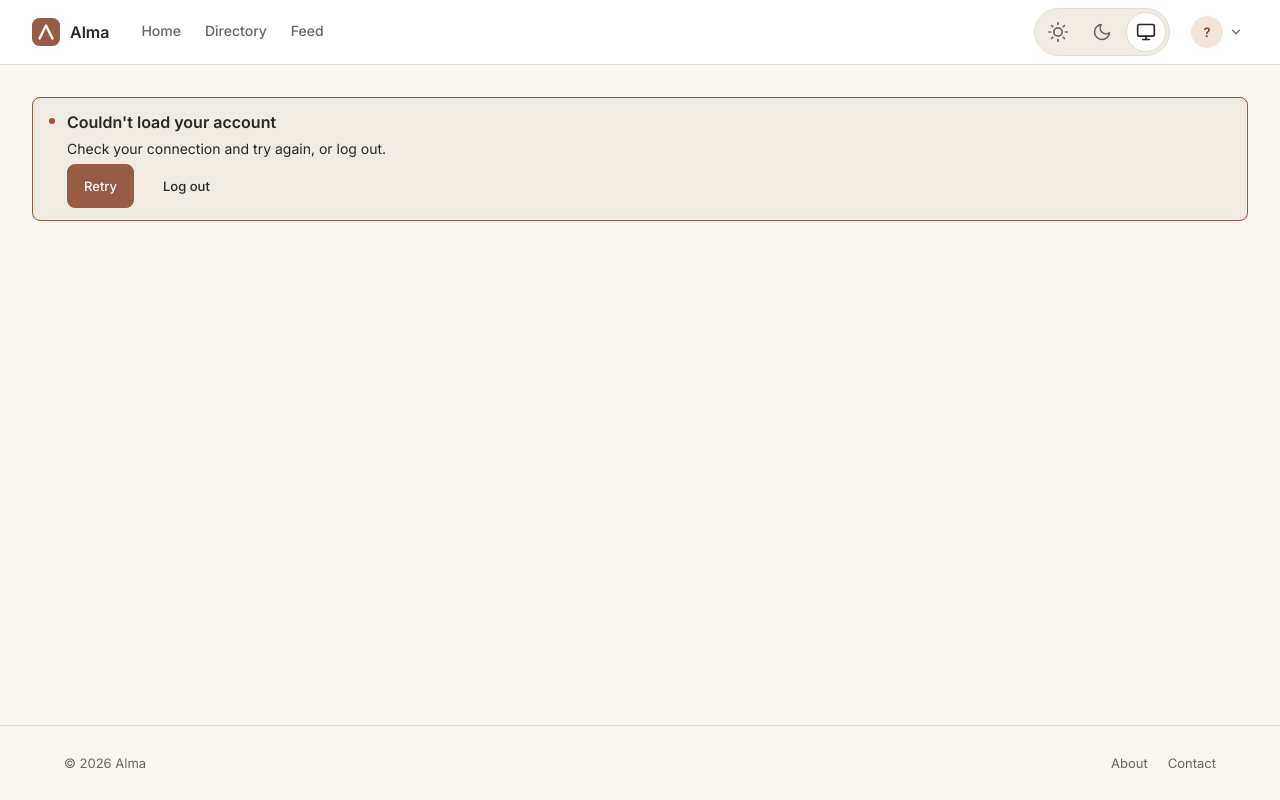
Test: /me through the real route (RequireAuth) › shows the guard's error with Retry when GET /me fails, and Retry loads the form
Expected: the text "Couldn't load your account" is shown, [67, 112, 276, 132]
Step 1. Click the button "Retry" → (100, 186), box [67, 164, 134, 208]
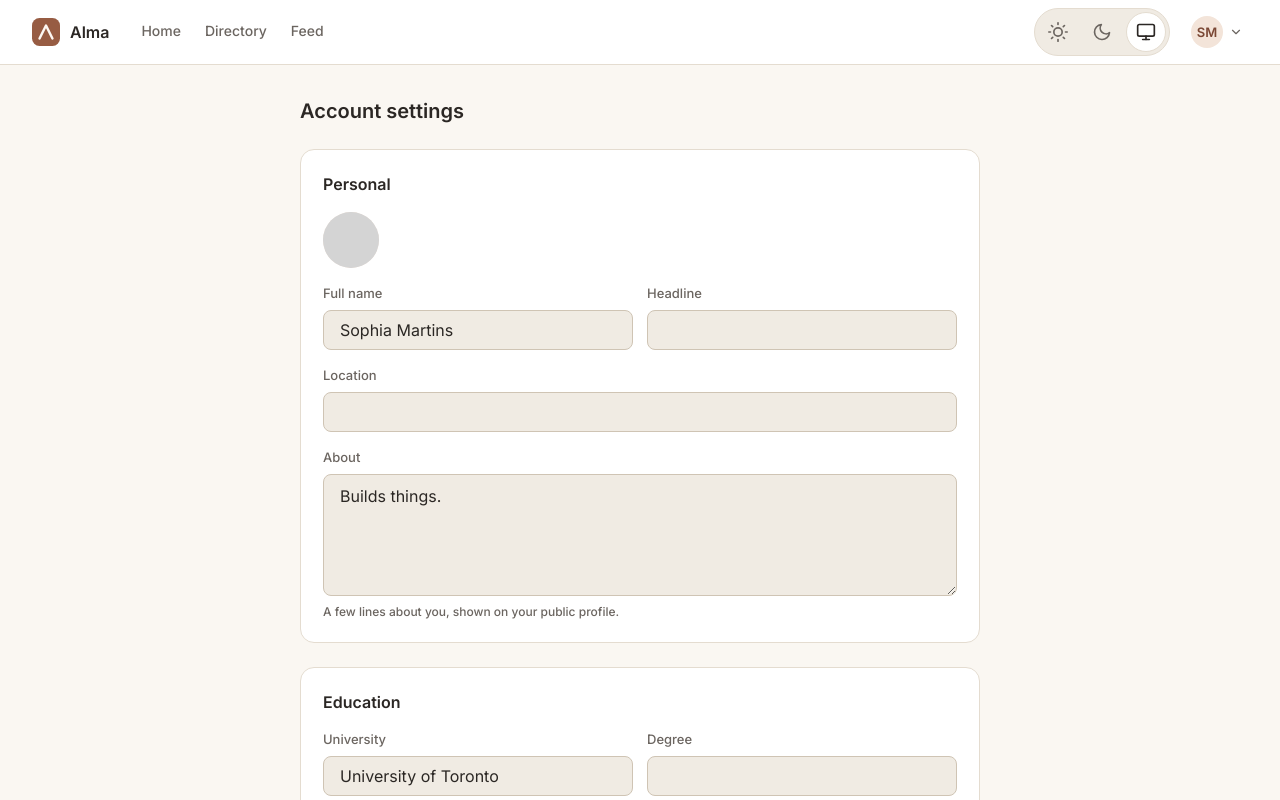
Now the field labelled "Full name" holds "Sophia Martins", box [323, 310, 633, 350]
